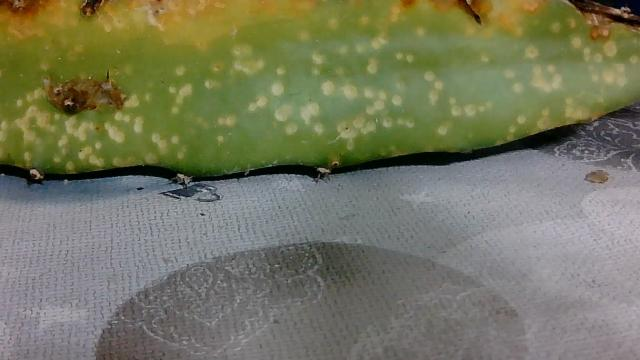stemcanker: (1, 2, 640, 170)
